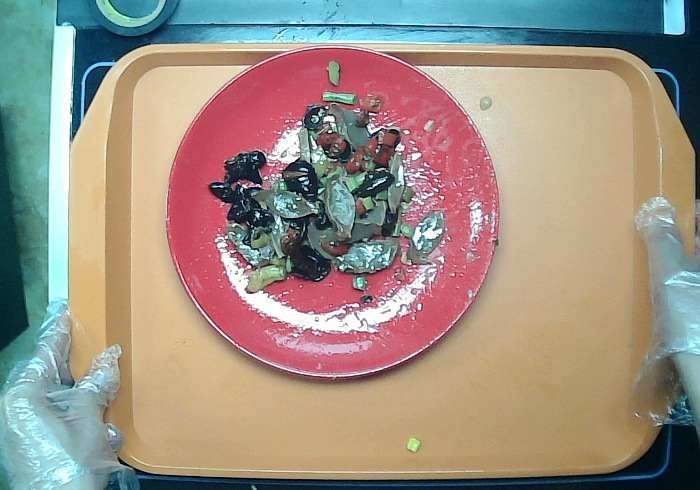HZYJPL-Hong_Se_Yuan_Pan: (164, 43, 500, 380)
